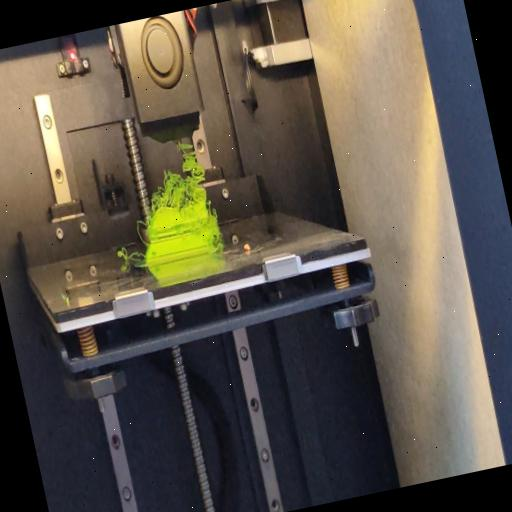spaghetti: (138, 132, 210, 214), (114, 243, 142, 262), (134, 214, 150, 244), (212, 237, 224, 249)
